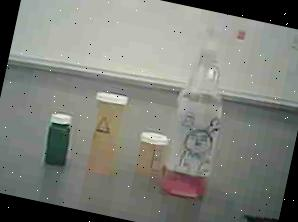Bottle A: (72, 83, 142, 180)
Bottle B: (124, 120, 172, 184)
Bottle C: (32, 105, 84, 172)
hazard: (153, 7, 252, 208)
